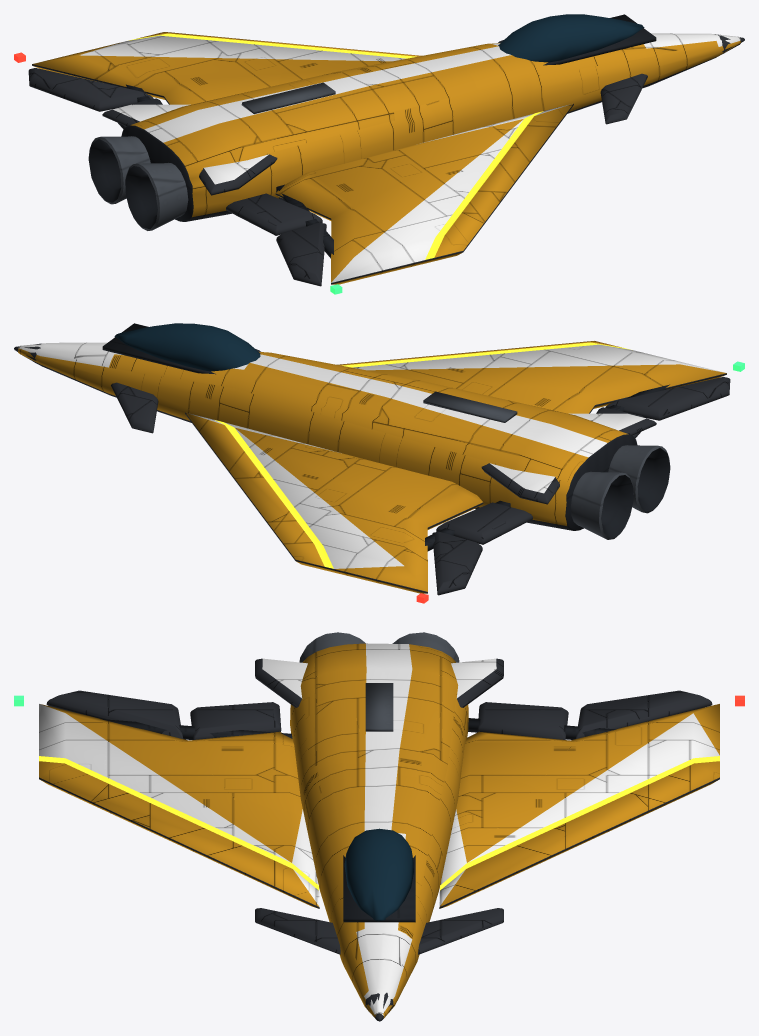
The model's file is hornet_production_v1_lod2.glb.
The picture shows the model from 3 angles, top to bottom: view 1: azimuth 30°, elevation 25°; view 2: azimuth 150°, elevation 25°; view 3: azimuth 270°, elevation 25°; orthographic projection. The views are drawn at different scales.
Parts seen in each view (by area): view 1: LOD0_Hull, LOD0_Livery, LOD0_MechanicalDark, LOD0_Mechanical, LOD0_CANOPY, LOD0_MOTION_HORNET_FLAP_S_Armor, LOD0_Armor, LOD0_MOTION_HORNET_FLAP_P_HOOK_ARMOR_FLAP_Armor, LOD0_Lights_Cyan_jacket, LOD0_MOTION_HORNET_CANARD_S_Armor; view 2: LOD0_Hull, LOD0_Livery, LOD0_MechanicalDark, LOD0_Mechanical, LOD0_CANOPY, LOD0_MOTION_HORNET_FLAP_S_Armor, LOD0_Armor, LOD0_MOTION_HORNET_FLAP_P_HOOK_ARMOR_FLAP_Armor, LOD0_MOTION_HORNET_FLAP_P_Armor, LOD0_Lights_Cyan_jacket, LOD0_MOTION_HORNET_CANARD_P_Armor; view 3: LOD0_Hull, LOD0_Livery, LOD0_MOTION_HORNET_FLAP_S_Armor, LOD0_CANOPY, LOD0_Lights_Cyan_jacket, LOD0_MOTION_HORNET_FLAP_P_HOOK_ARMOR_FLAP_Armor, LOD0_Armor, LOD0_Mechanical, LOD0_MechanicalDark, LOD0_MOTION_HORNET_FLAP_P_Armor, LOD0_MOTION_HORNET_CANARD_P_Armor, LOD0_MOTION_HORNET_CANARD_S_Armor.
Boxes of the visible parts, x1,y1,x2,y2 form: LOD0_Hull: (32, 32, 740, 284); LOD0_Livery: (80, 33, 740, 282); LOD0_MechanicalDark: (88, 14, 740, 258); LOD0_Mechanical: (88, 82, 335, 230); LOD0_CANOPY: (498, 14, 644, 62); LOD0_MOTION_HORNET_FLAP_S_Armor: (226, 193, 326, 286); LOD0_Armor: (32, 34, 744, 284); LOD0_MOTION_HORNET_FLAP_P_HOOK_ARMOR_FLAP_Armor: (28, 68, 153, 111); LOD0_Lights_Cyan_jacket: (129, 33, 543, 259); LOD0_MOTION_HORNET_CANARD_S_Armor: (600, 73, 647, 124); LOD0_Hull: (18, 341, 726, 593); LOD0_Livery: (18, 342, 722, 568); LOD0_MechanicalDark: (17, 323, 670, 551); LOD0_Mechanical: (423, 391, 670, 539); LOD0_CANOPY: (114, 323, 260, 371); LOD0_MOTION_HORNET_FLAP_S_Armor: (596, 377, 730, 438); LOD0_Armor: (14, 343, 726, 593); LOD0_MOTION_HORNET_FLAP_P_HOOK_ARMOR_FLAP_Armor: (432, 531, 482, 595); LOD0_MOTION_HORNET_FLAP_P_Armor: (436, 502, 532, 544); LOD0_Lights_Cyan_jacket: (215, 342, 629, 568); LOD0_MOTION_HORNET_CANARD_P_Armor: (111, 382, 158, 433); LOD0_Hull: (39, 643, 719, 1018); LOD0_Livery: (39, 643, 719, 1015); LOD0_MOTION_HORNET_FLAP_S_Armor: (46, 690, 281, 739); LOD0_CANOPY: (344, 828, 413, 921); LOD0_Lights_Cyan_jacket: (39, 756, 719, 890); LOD0_MOTION_HORNET_FLAP_P_HOOK_ARMOR_FLAP_Armor: (575, 690, 712, 738); LOD0_Armor: (39, 658, 719, 1021); LOD0_Mechanical: (299, 632, 459, 731); LOD0_MechanicalDark: (100, 718, 616, 1020); LOD0_MOTION_HORNET_FLAP_P_Armor: (477, 702, 568, 739); LOD0_MOTION_HORNET_CANARD_P_Armor: (418, 908, 503, 954); LOD0_MOTION_HORNET_CANARD_S_Armor: (255, 908, 340, 954).
Size of what is drawn, in the model's own units: 9.84 by 1.43 by 8.8.
11 materials, 5 textured.
